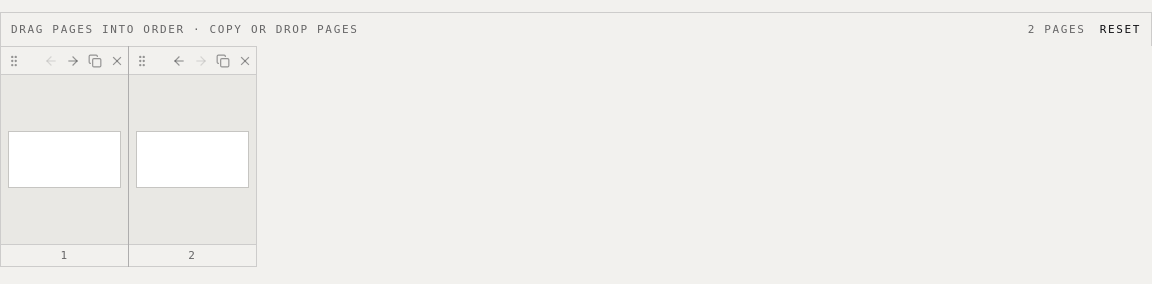
Test case: PageGrid arrange › copies and drops pages, but never the last one
This screenshot has width=1152, height=284.
Click the button named "Copy page 2": (221, 60) x1=210 y1=50 x2=232 y2=72
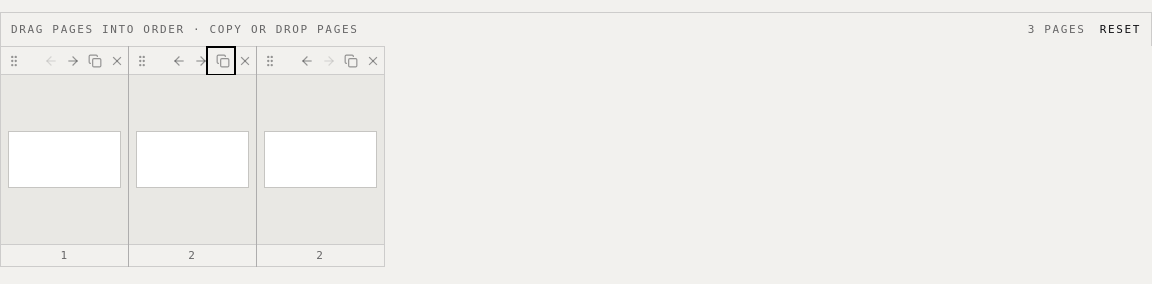
Click the 1st button named "Drop page 2": (243, 60) x1=232 y1=50 x2=254 y2=72
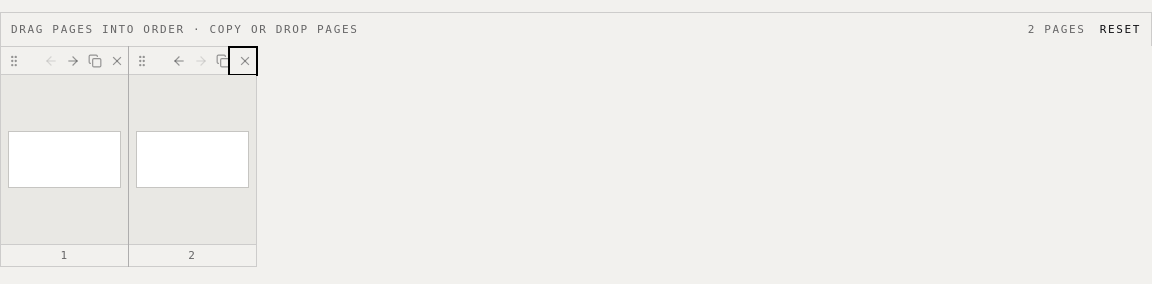
Click the button named "Drop page 2": (243, 60) x1=232 y1=50 x2=254 y2=72
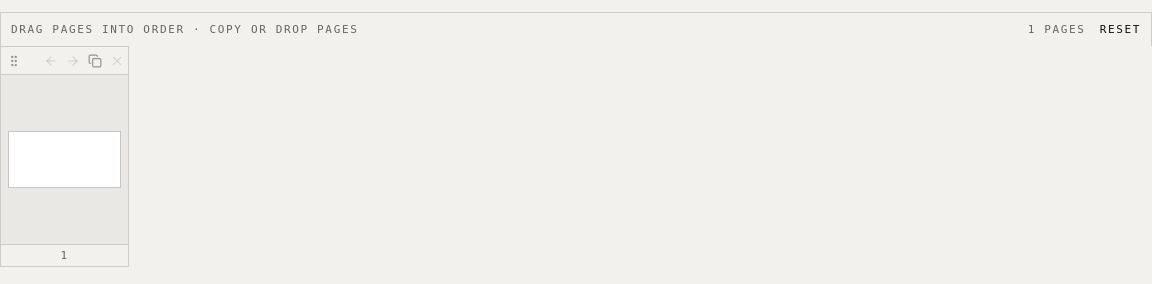
Check: the button named "Drop page 1" is disabled, box x1=104 y1=50 x2=126 y2=72
